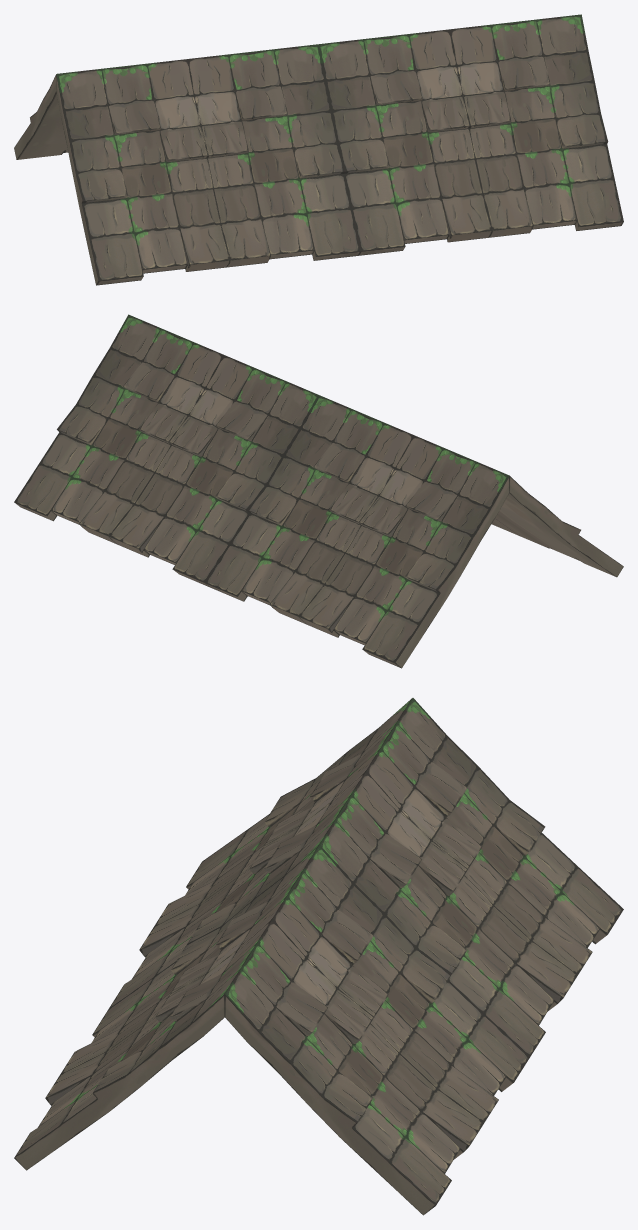
File: polysurface253_txt_toit_0_lev1_lev2.glb
3 renders of one model, top to bottom at view 1: azimuth 30°, elevation 25°; view 2: azimuth 150°, elevation 25°; view 3: azimuth 270°, elevation 25°, orthographic. The views are drawn at different scales.
Parts seen in each view (by area): view 1: polysurface253_txt_toit_0_lev1_lev2; view 2: polysurface253_txt_toit_0_lev1_lev2; view 3: polysurface253_txt_toit_0_lev1_lev2.
Part boxes in pixels (box(x1,y1,x2,y2)): polysurface253_txt_toit_0_lev1_lev2: box(14, 14, 623, 285); polysurface253_txt_toit_0_lev1_lev2: box(14, 314, 623, 668); polysurface253_txt_toit_0_lev1_lev2: box(14, 698, 623, 1215).
Bounding box in the file's own units: 13.67 × 3.68 × 10.23.
1 material, 1 textured.
